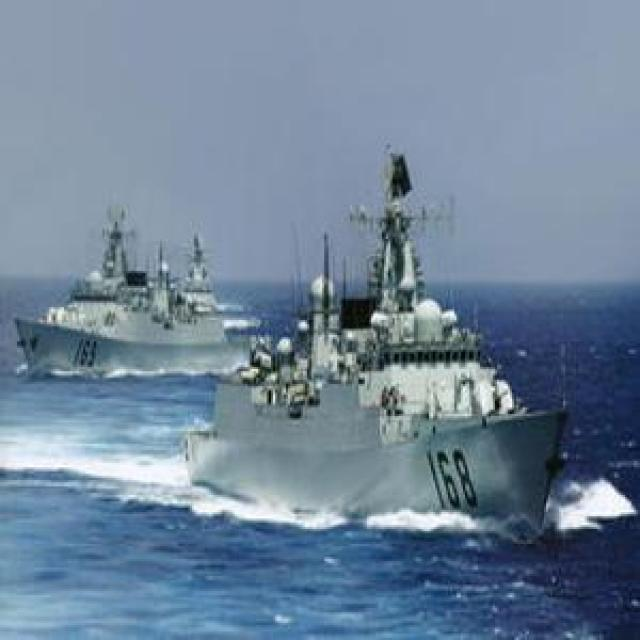navalvessels: (190, 137, 576, 534), (15, 181, 259, 380)
